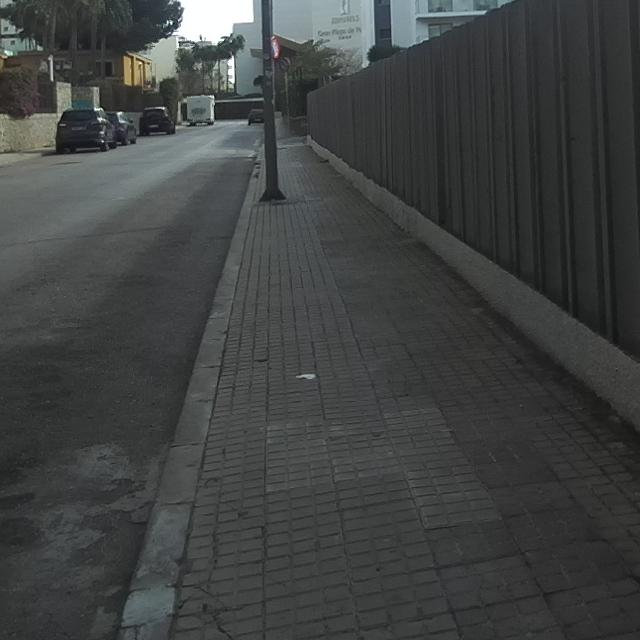calcada_quebrada: (180, 585, 250, 640), (184, 516, 232, 585), (463, 563, 497, 609)
